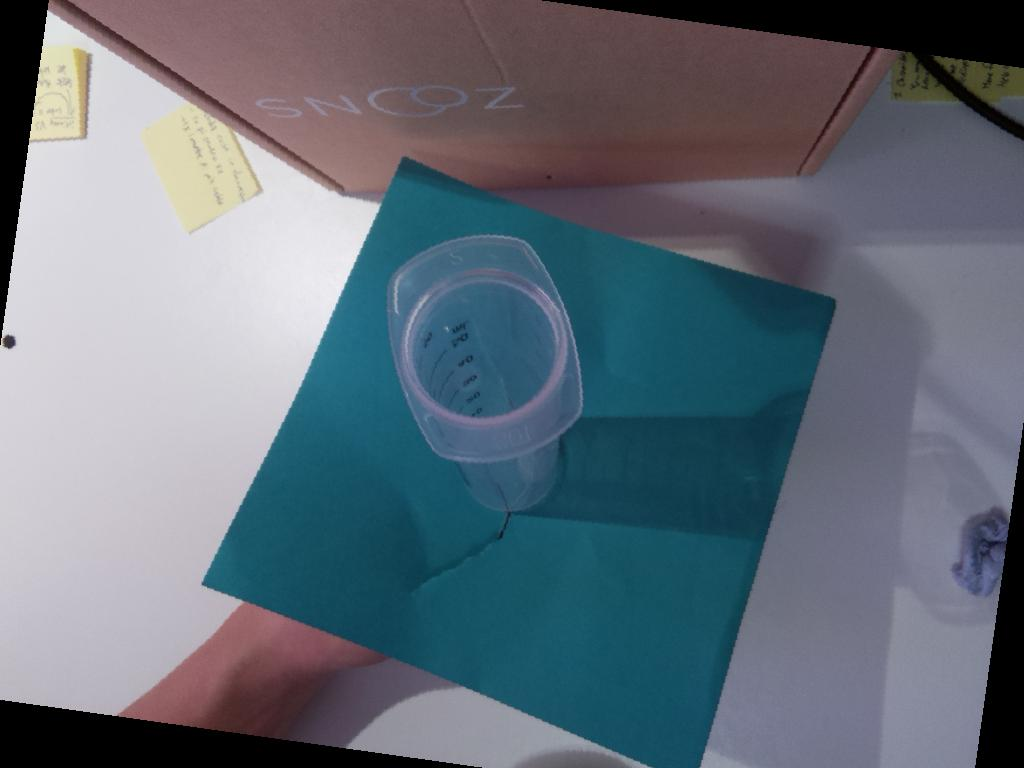clean: (385, 234, 587, 467)
